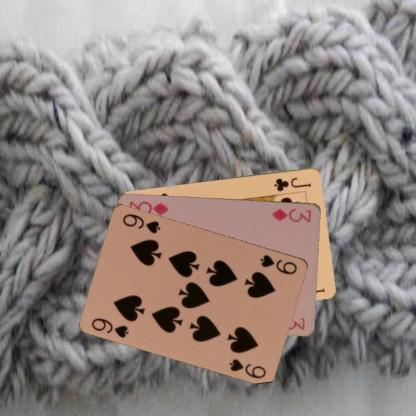3d: (270, 205, 312, 224)
9s: (89, 315, 131, 339), (258, 251, 298, 276)
Jc: (272, 174, 313, 192)
